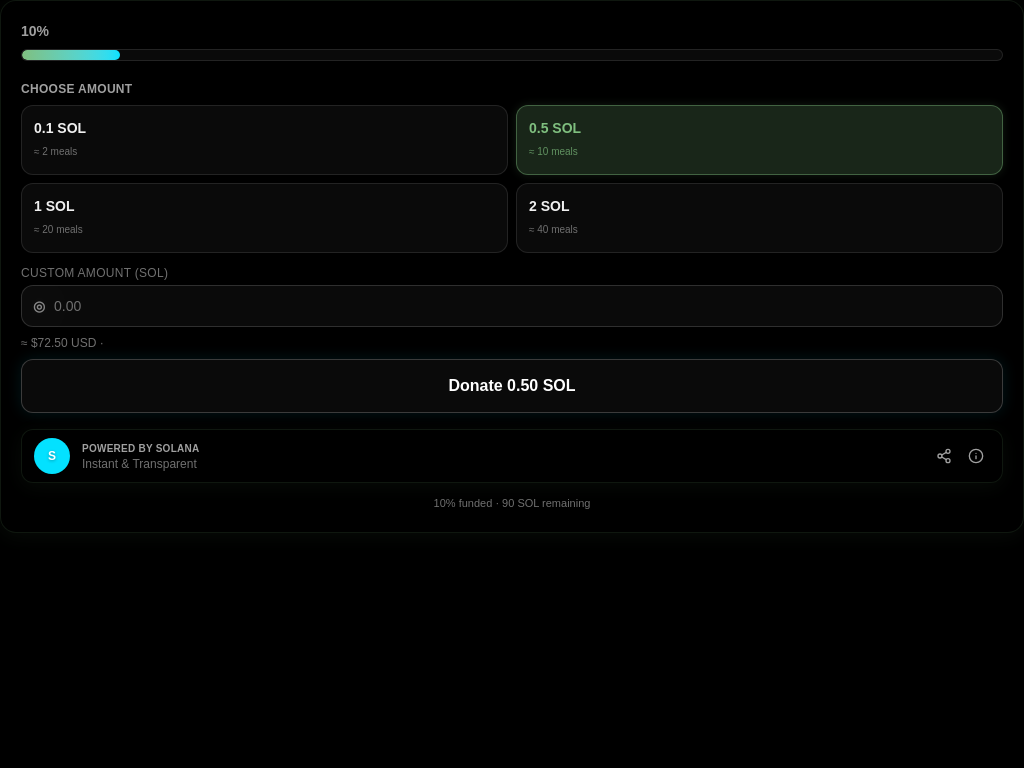
Test: DonationPanel › shows USD conversion for entered amount
In the field with placeholder "0.00": (512, 306) [21,285,1003,327], type "1"
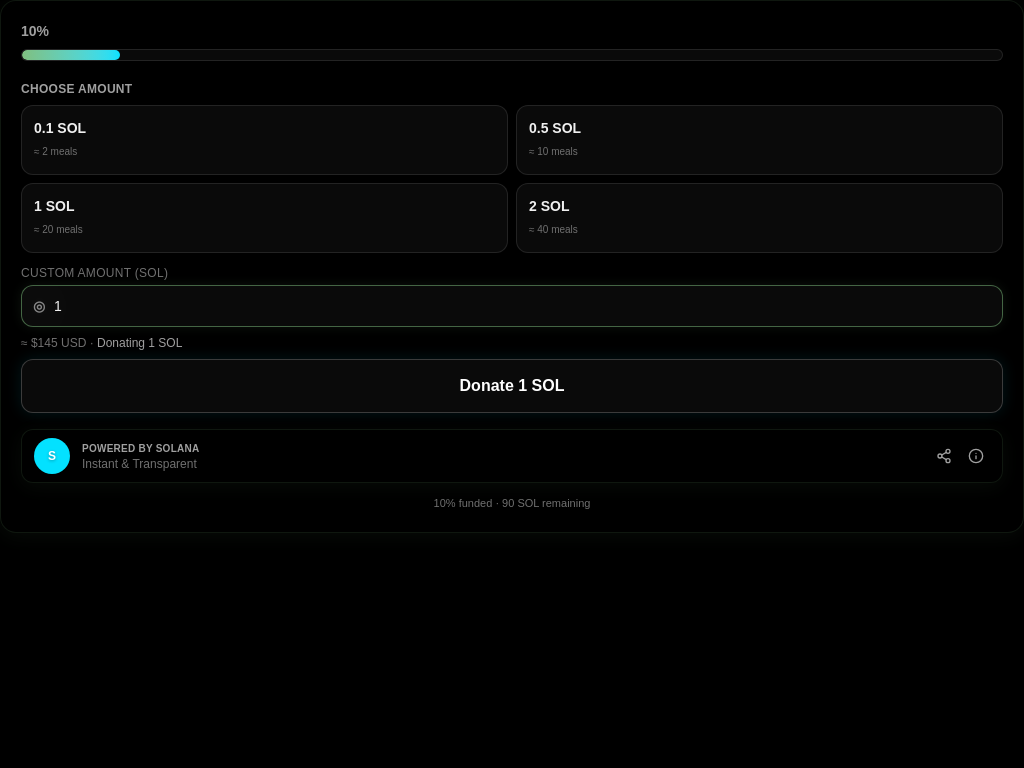
Expected: the text "≈ $145 USD · Donating 1 SOL" is shown, [21,336,182,350]
